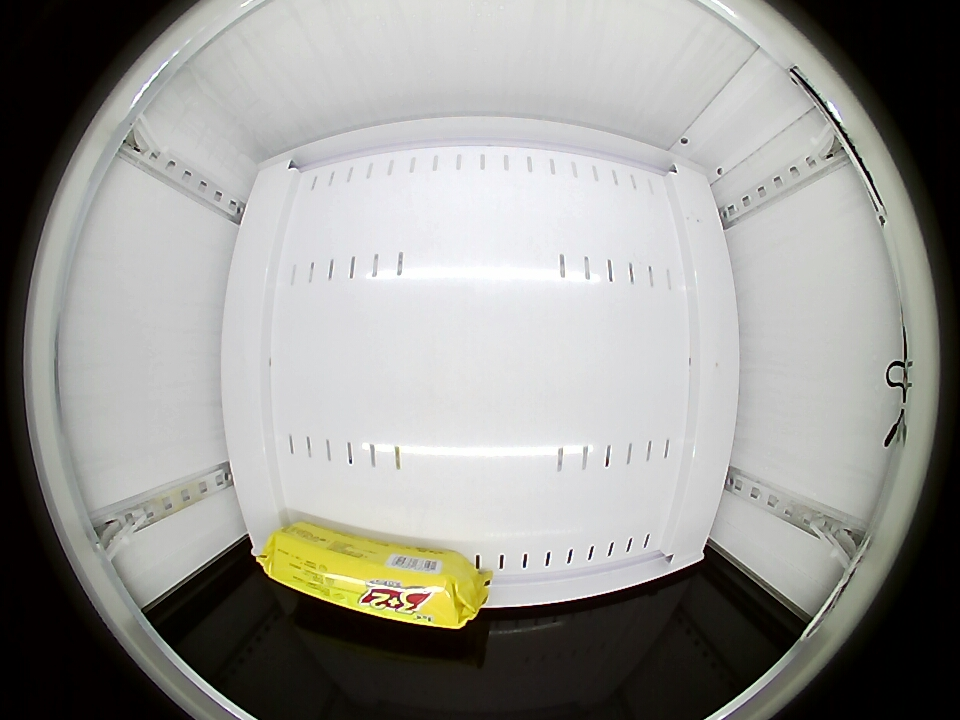3+2-2: (262, 527, 475, 629)
